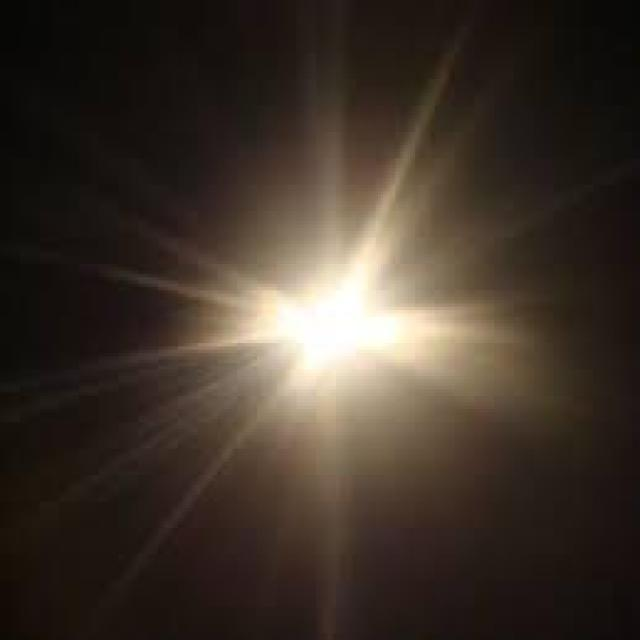other: (181, 235, 455, 408)
